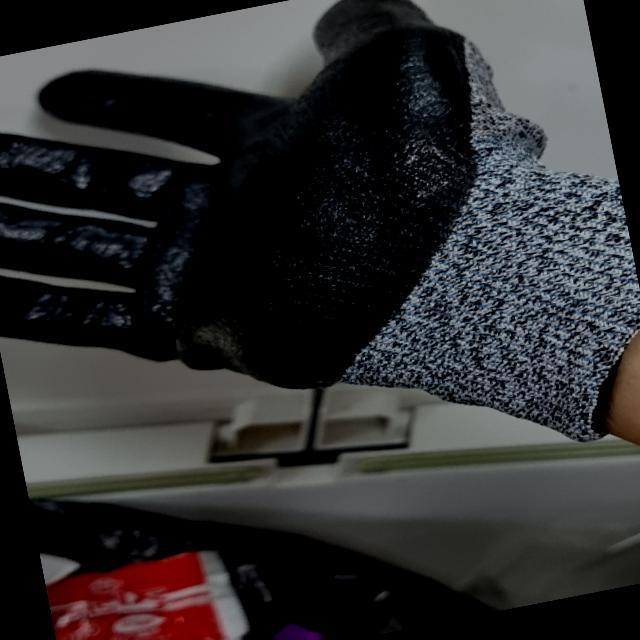Gloves: (0, 0, 639, 448)
